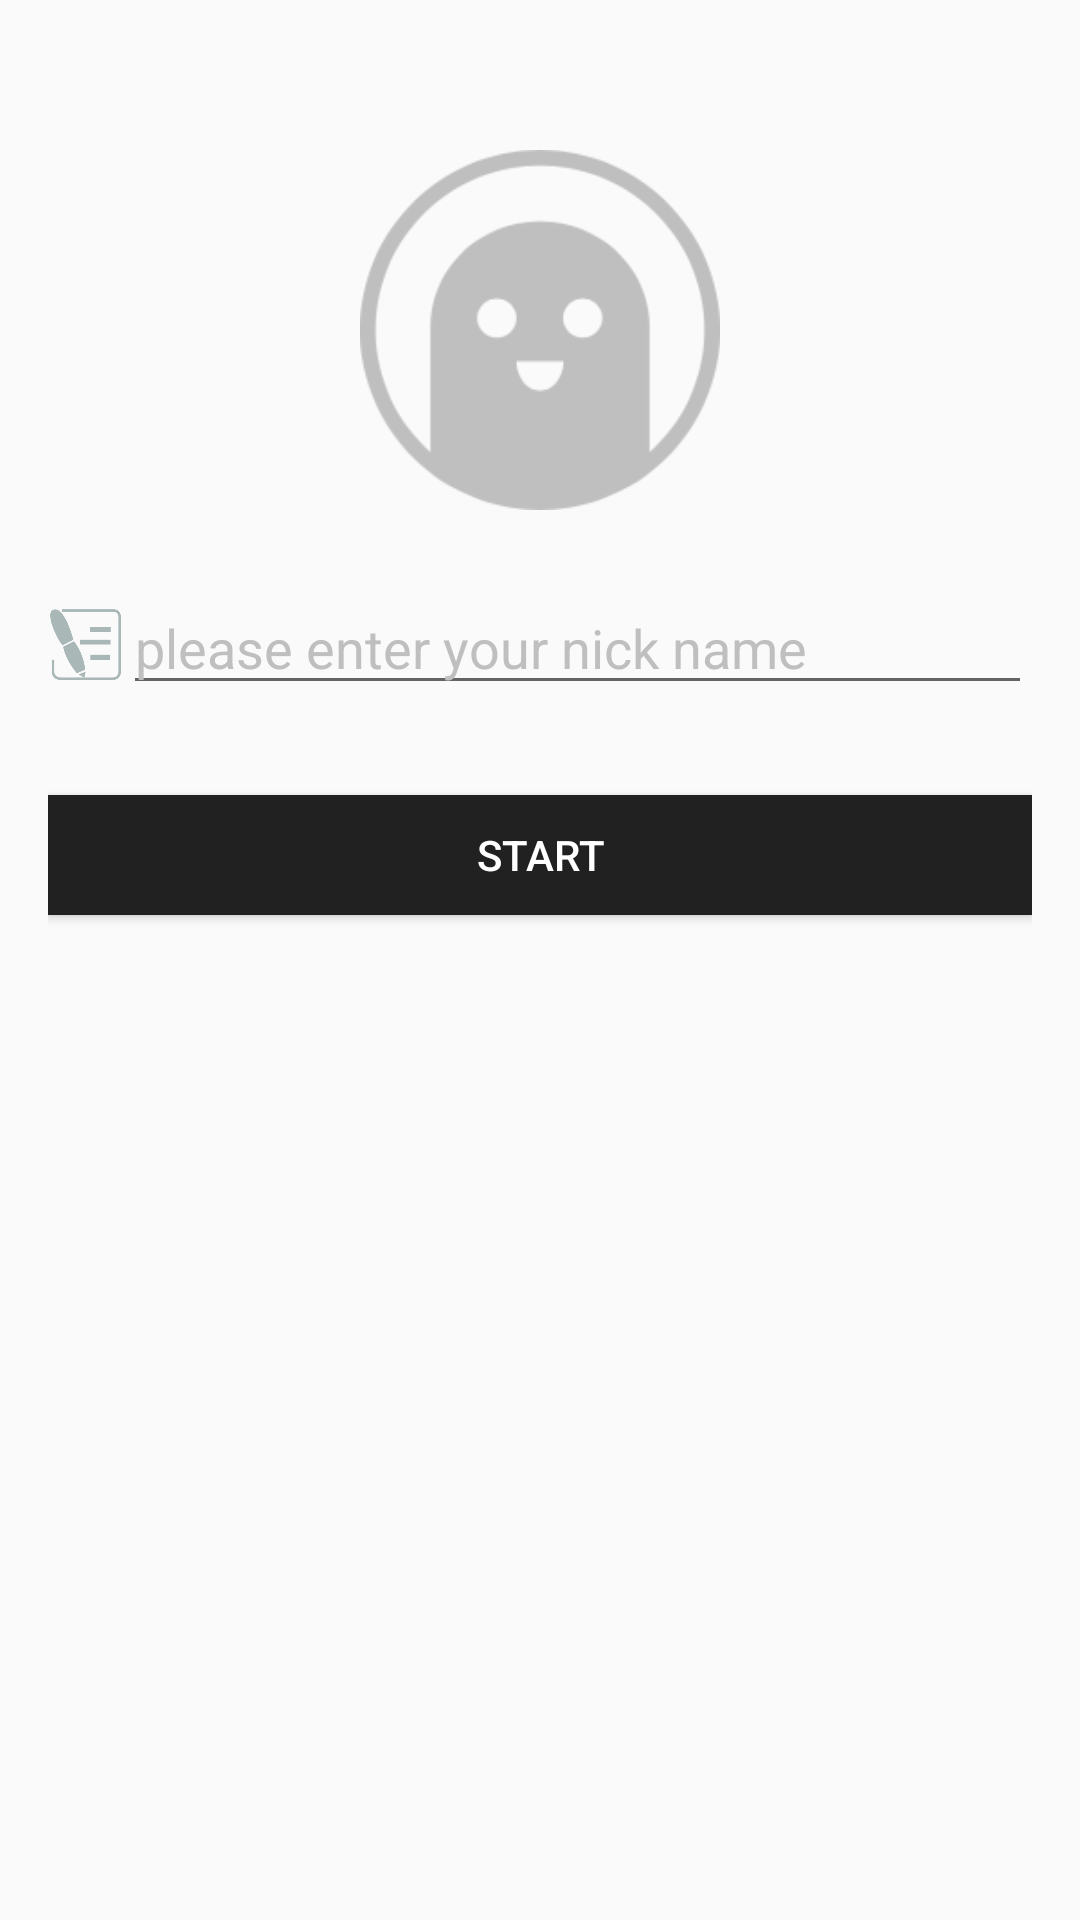

Icon bounding boxes for this 1080x1920 phone screenshot, format region(x1, y1, x2, y2):
head: region(360, 150, 720, 510)
login nick: region(50, 609, 121, 680)
